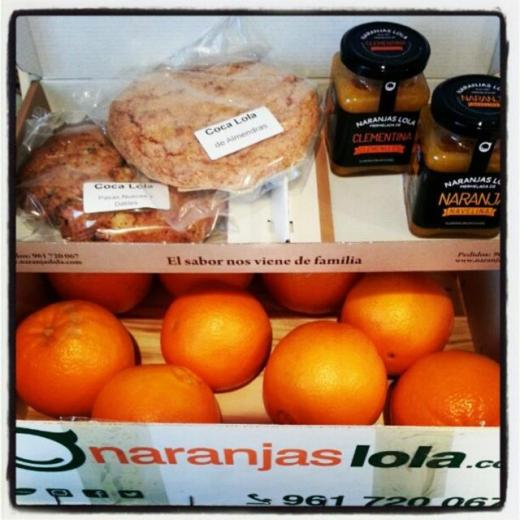Grape: (12, 300, 134, 413), (262, 322, 392, 428), (340, 270, 455, 374), (158, 288, 277, 388), (392, 352, 506, 428), (95, 364, 223, 422), (265, 269, 359, 312), (53, 275, 140, 311), (158, 269, 248, 295)
